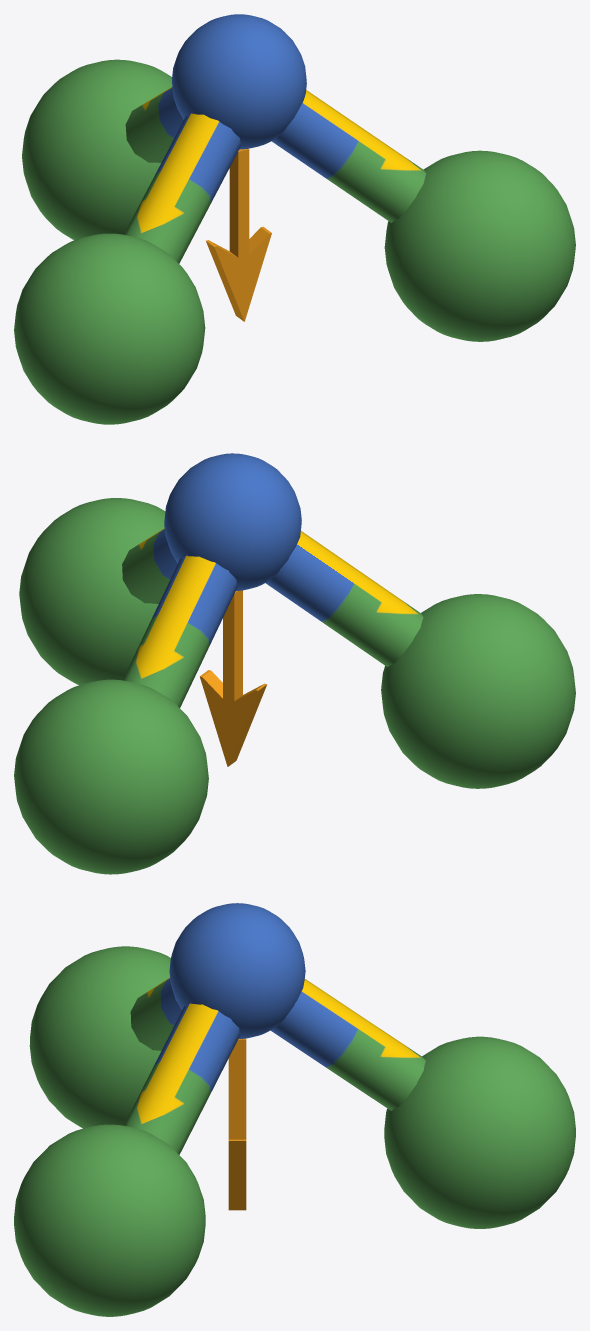
3 views of the same model, one above another, from view 1: azimuth 30°, elevation 25°; view 2: azimuth 150°, elevation 25°; view 3: azimuth 270°, elevation 25° (orthographic).
Visible parts, largest first — view 1: 对象004; view 2: 对象004; view 3: 对象004.
Boxes of the visible parts, x1,y1,x2,y2 form: 对象004: (14, 14, 575, 424); 对象004: (14, 453, 575, 874); 对象004: (14, 903, 575, 1316).
Bounding box in the file's own units: 63.06 × 35.32 × 57.78.
